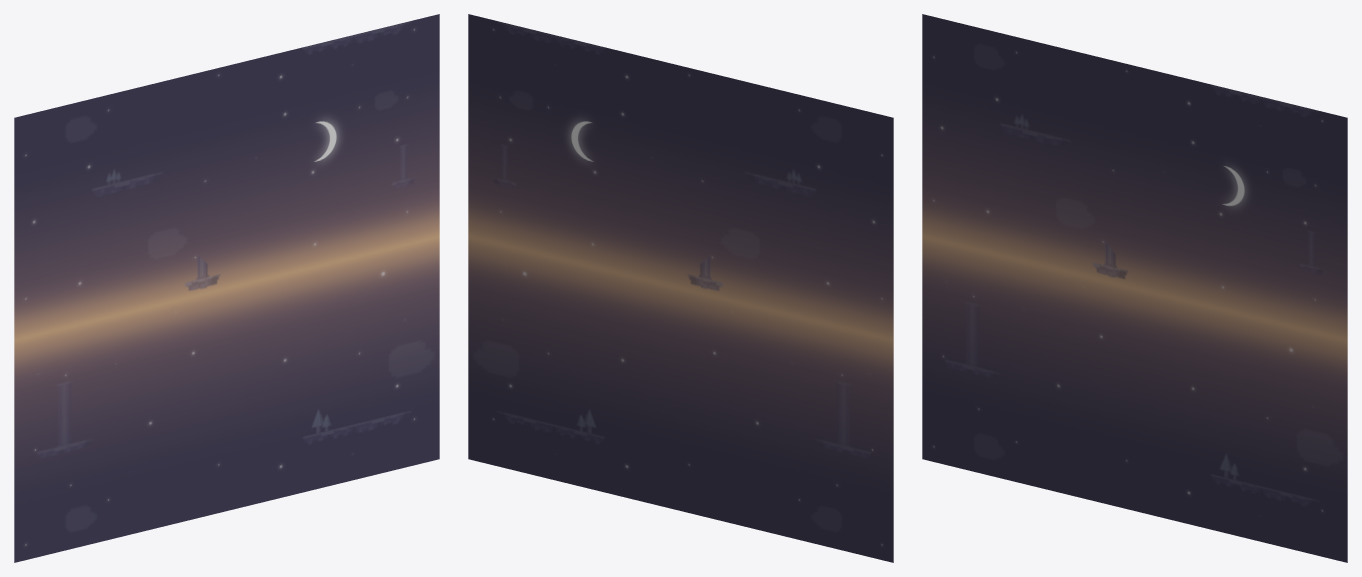
Rendered from Sky_02.FBX.
3 views of the same model, side by side, from view 1: azimuth 30°, elevation 25°; view 2: azimuth 150°, elevation 25°; view 3: azimuth 330°, elevation 25° (orthographic).
Visible parts, largest first — view 1: Sky_02; view 2: Sky_02; view 3: Sky_02.
Boxes of the visible parts, x1=… form: Sky_02: x1=14, y1=14, x2=439, y2=562; Sky_02: x1=468, y1=14, x2=893, y2=562; Sky_02: x1=922, y1=14, x2=1347, y2=562.
Bounding box in the file's own units: 394 × 394 × 7.51e-05.
